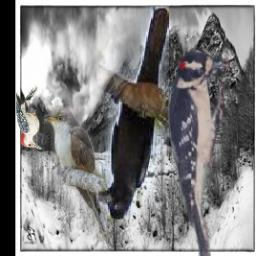Crow: (98, 6, 169, 219)
Cuckoo: (43, 106, 109, 241)
Woodpecker: (165, 46, 229, 256), (16, 87, 45, 149)
